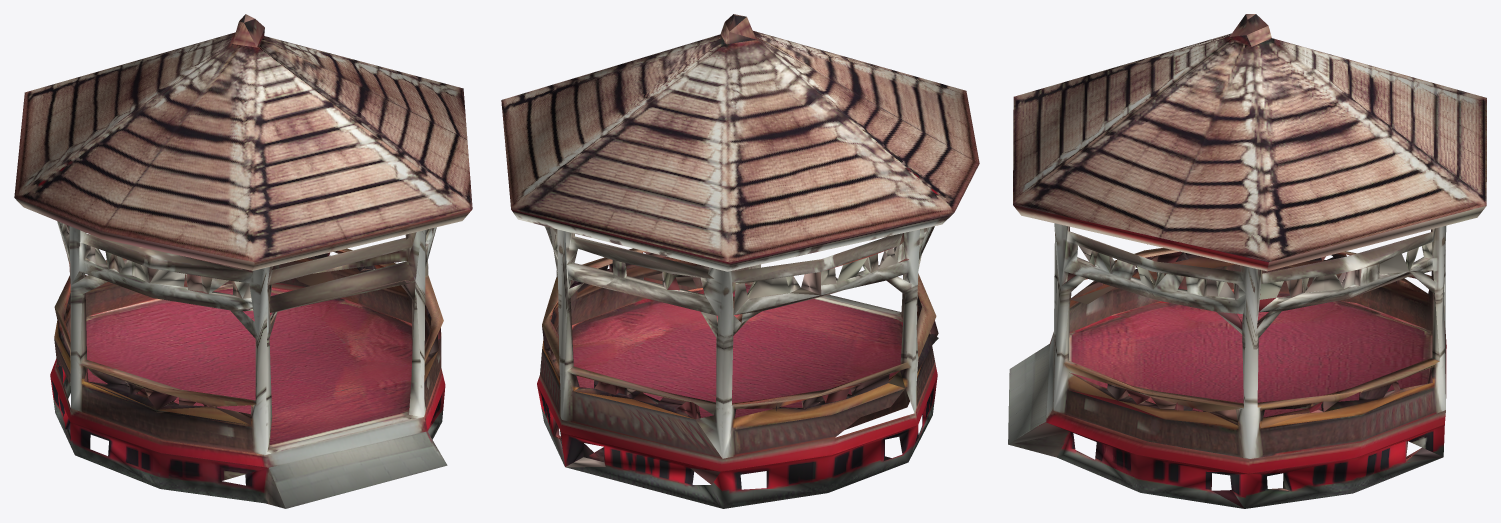
Rendered from Kiosko.fbx.
3 renders of one model, left to right at view 1: azimuth 30°, elevation 25°; view 2: azimuth 150°, elevation 25°; view 3: azimuth 270°, elevation 25°, orthographic. The views are drawn at different scales.
Parts seen in each view (by area): view 1: Mesh_0; view 2: Mesh_0; view 3: Mesh_0.
Part boxes in pixels (left/top/right/bottom): Mesh_0: left=14, top=14, right=472, bottom=508; Mesh_0: left=501, top=14, right=979, bottom=508; Mesh_0: left=1008, top=14, right=1486, bottom=508.
Size of the model in its own units: 195 by 167 by 177.
Materials: 1 (1 with a texture image).
